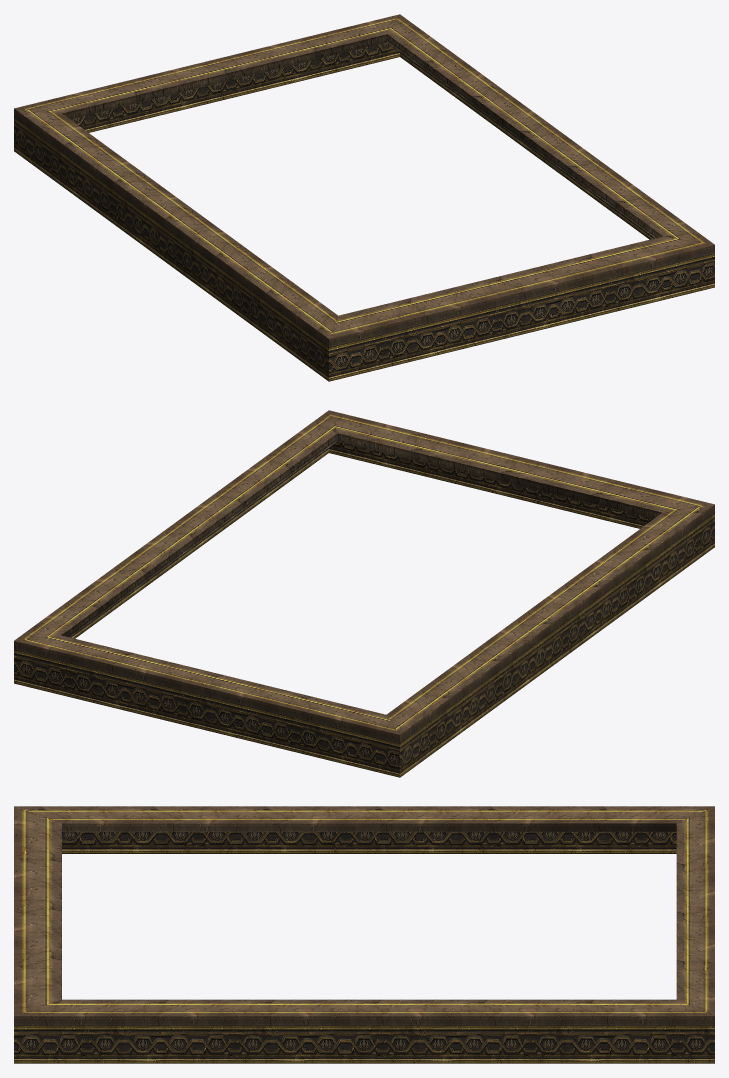
File: wall_line.FBX
The picture shows the model from 3 angles, top to bottom: view 1: azimuth 30°, elevation 25°; view 2: azimuth 150°, elevation 25°; view 3: azimuth 270°, elevation 25°; orthographic projection. The views are drawn at different scales.
Visible parts, largest first — view 1: wall_line; view 2: wall_line; view 3: wall_line.
Boxes of the visible parts, <box> form: wall_line: <box>14,14,714,381</box>; wall_line: <box>14,410,714,777</box>; wall_line: <box>14,806,714,1063</box>.
Size of the model in its own units: 8.98 by 0.9513 by 12.69.
